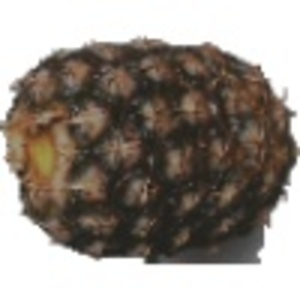abacaxi: (1, 31, 295, 254)
